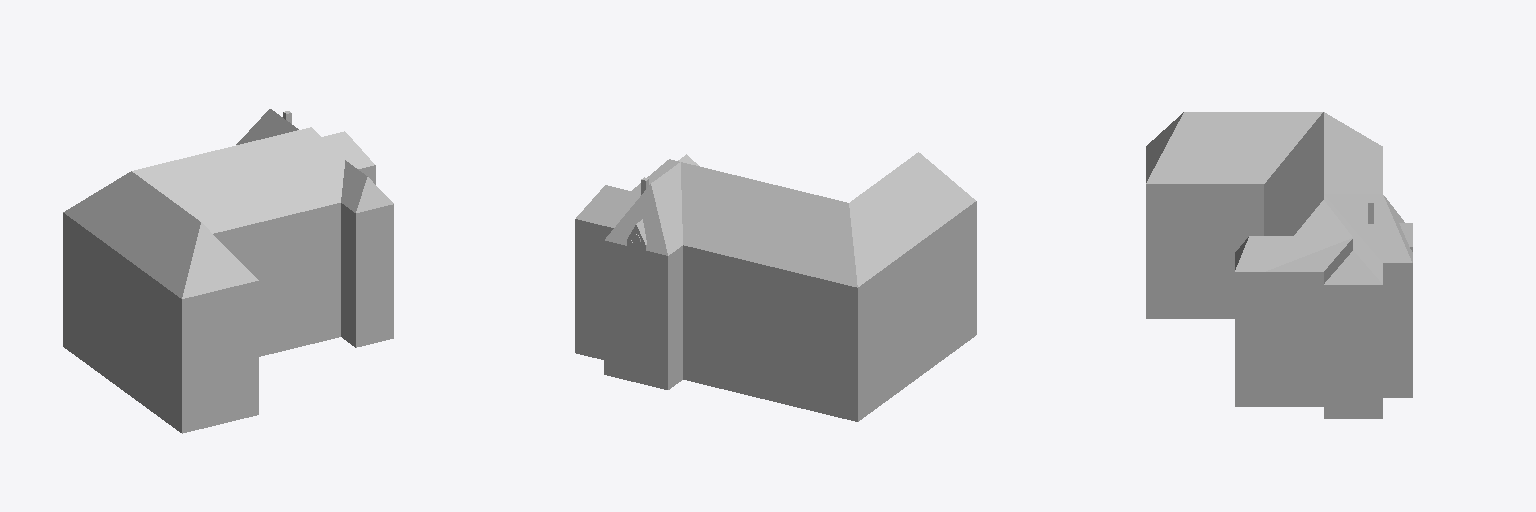
Rendered from BUniversity.obj.
The picture shows the model from 3 angles: view 1: azimuth 30°, elevation 25°; view 2: azimuth 150°, elevation 25°; view 3: azimuth 270°, elevation 25°; orthographic projection.
Parts seen in each view (by area): view 1: BUniversity; view 2: BUniversity; view 3: BUniversity.
Part boxes in pixels (x1,y1,x2,y2): BUniversity: (63,109,393,433); BUniversity: (575,152,976,421); BUniversity: (1146,112,1412,418).
Bounding box in the file's own units: 11 × 7 × 9.06.